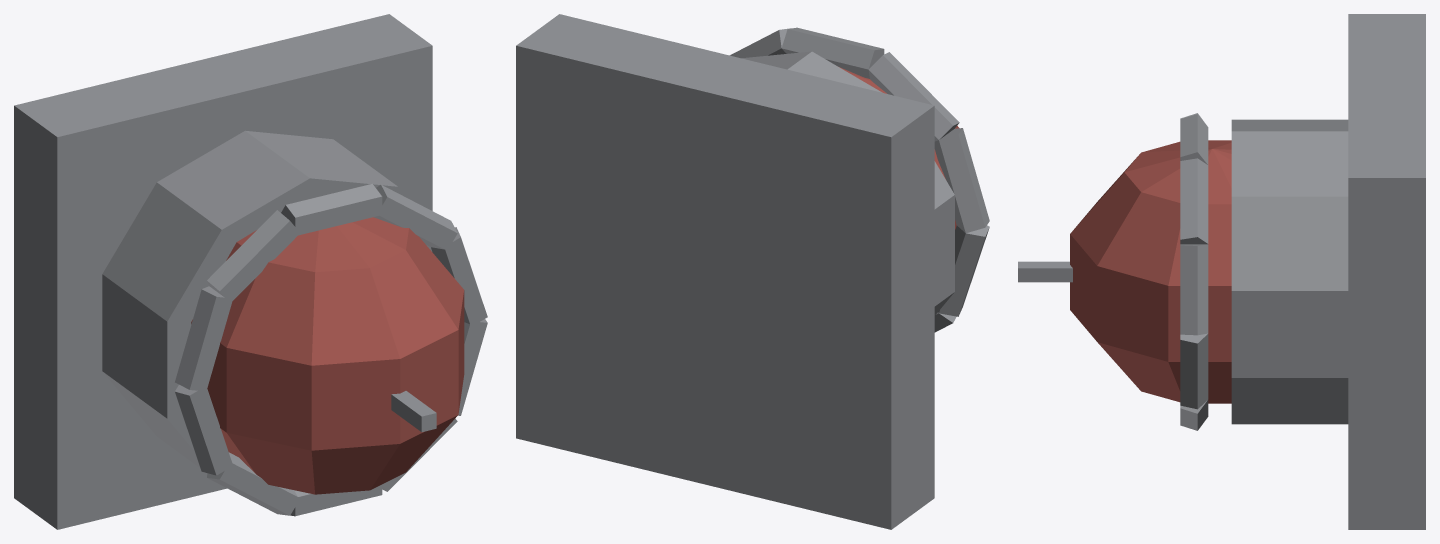
File: HJ_LuzEmergencia.fbx
3 views of the same model, side by side, from view 1: azimuth 30°, elevation 25°; view 2: azimuth 150°, elevation 25°; view 3: azimuth 270°, elevation 25° (orthographic). The views are drawn at different scales.
Parts seen in each view (by area): view 1: HJ_LuzEmergencia; view 2: HJ_LuzEmergencia; view 3: HJ_LuzEmergencia.
Boxes of the visible parts, x1,y1,x2,y2 form: HJ_LuzEmergencia: (14, 14, 487, 529); HJ_LuzEmergencia: (516, 14, 989, 529); HJ_LuzEmergencia: (1018, 14, 1425, 529).
Size of the model in its own units: 0.2 by 0.2 by 0.21.
